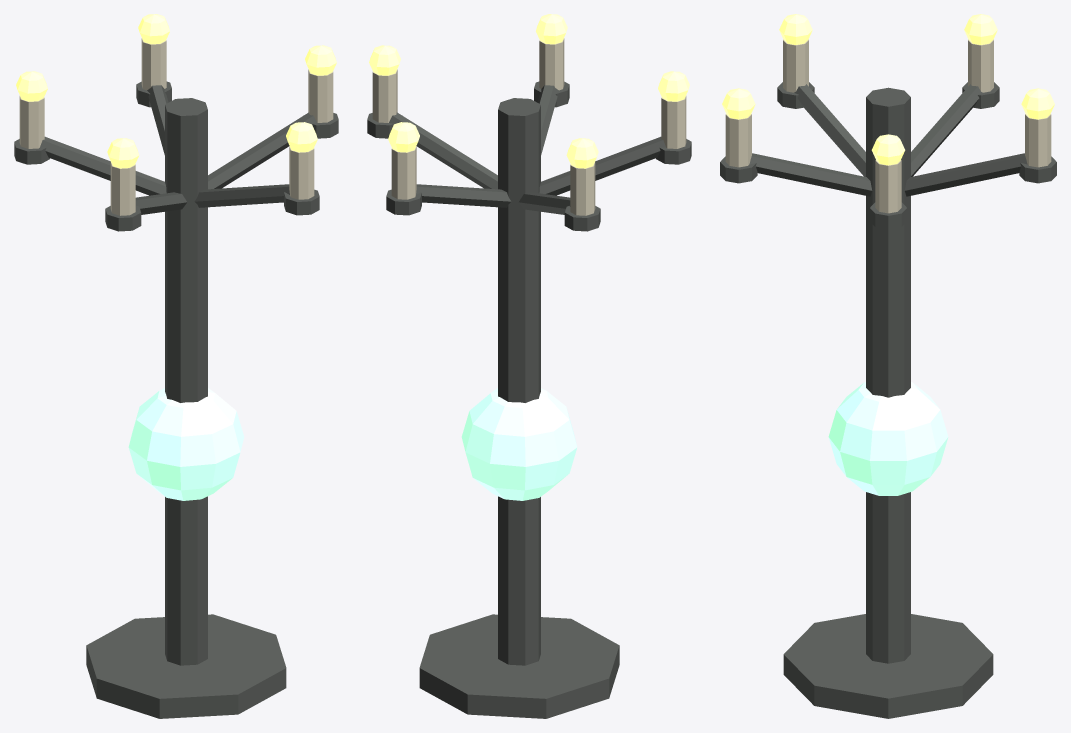
Rendered from candelabrum_tall.glb.
3 renders of one model, left to right at view 1: azimuth 30°, elevation 25°; view 2: azimuth 150°, elevation 25°; view 3: azimuth 270°, elevation 25°, orthographic.
Parts seen in each view (by area): view 1: candelabrum_tall; view 2: candelabrum_tall; view 3: candelabrum_tall.
Part boxes in pixels (x1,y1,x2,y2): candelabrum_tall: [14, 14, 338, 718]; candelabrum_tall: [367, 14, 691, 718]; candelabrum_tall: [720, 14, 1056, 718].
Bounding box in the file's own units: 0.8598 × 1.78 × 0.8989.
